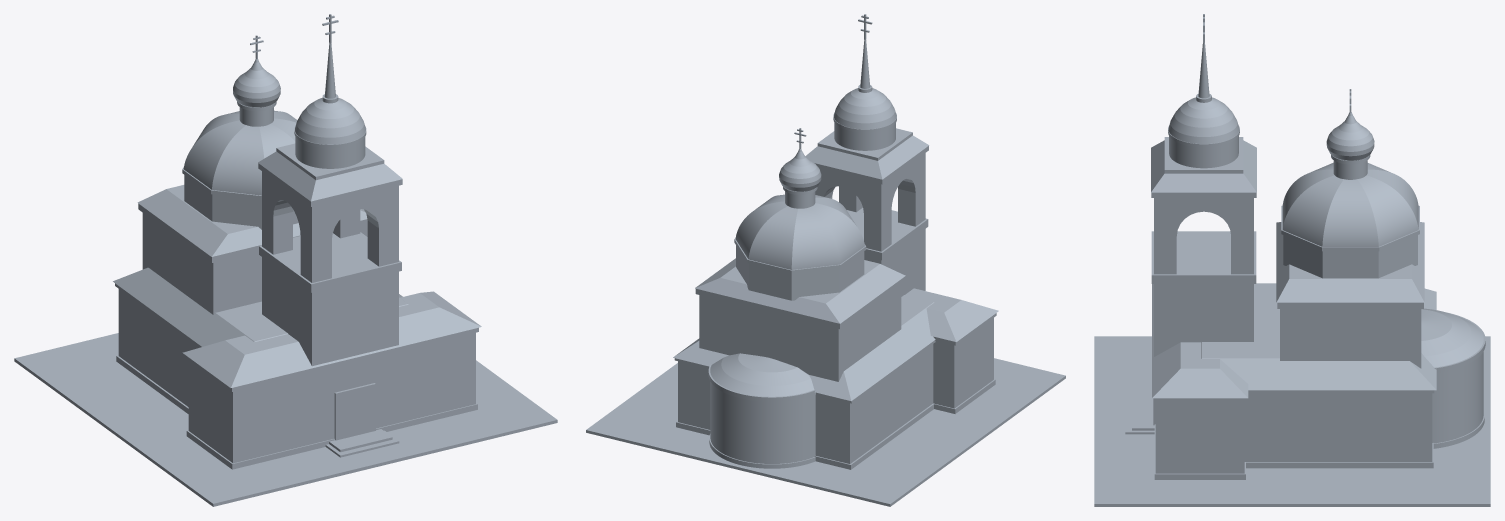
Rendered from church.glb.
The picture shows the model from 3 angles, left to right: view 1: azimuth 30°, elevation 25°; view 2: azimuth 150°, elevation 25°; view 3: azimuth 270°, elevation 25°; orthographic projection. The views are drawn at different scales.
Parts seen in each view (by area): view 1: church-plaza-adro, church-churchBrick-frontaria, church-churchBrick-torre, church-churchBrick-campanario, church-zinc-telhado-entrada, church-churchBrick-camara-alta, church-gold-cupula-octogonal, church-zinc-telhado-nave, church-churchBrick-nave, church-zinc-telhado-camara, church-lime-base-sinos, church-zinc-telhado-campanario (+11 smaller); view 2: church-plaza-adro, church-churchBrick-camara-alta, church-churchBrick-nave, church-gold-cupula-octogonal, church-churchBrick-abside, church-churchBrick-campanario, church-zinc-telhado-nave, church-zinc-telhado-camara, church-churchBrick-frontaria, church-zinc-telhado-abside, church-churchBrick-tambor-principal, church-zinc-telhado-entrada (+13 smaller); view 3: church-plaza-adro, church-churchBrick-nave, church-zinc-telhado-nave, church-gold-cupula-octogonal, church-churchBrick-camara-alta, church-churchBrick-frontaria, church-churchBrick-torre, church-zinc-telhado-camara, church-churchBrick-campanario, church-zinc-telhado-entrada, church-churchBrick-tambor-principal, church-lime-base-sinos (+17 smaller).
Part boxes in pixels (x1,y1,x2,y2): church-plaza-adro: [14, 333, 557, 506]; church-churchBrick-frontaria: [188, 332, 475, 463]; church-churchBrick-torre: [262, 257, 398, 366]; church-churchBrick-campanario: [262, 171, 398, 282]; church-zinc-telhado-entrada: [182, 291, 481, 387]; church-churchBrick-camara-alta: [142, 213, 367, 314]; church-gold-cupula-octogonal: [183, 110, 297, 195]; church-zinc-telhado-nave: [113, 267, 408, 346]; church-churchBrick-nave: [118, 289, 198, 406]; church-zinc-telhado-camara: [137, 185, 367, 256]; church-lime-base-sinos: [259, 232, 401, 292]; church-zinc-telhado-campanario: [258, 151, 402, 201]; church-plaza-adro: [586, 358, 1065, 506]; church-churchBrick-camara-alta: [699, 285, 901, 381]; church-churchBrick-nave: [678, 344, 933, 463]; church-gold-cupula-octogonal: [735, 194, 864, 269]; church-churchBrick-abside: [710, 382, 815, 463]; church-churchBrick-campanario: [815, 153, 925, 251]; church-zinc-telhado-nave: [673, 295, 935, 401]; church-zinc-telhado-camara: [695, 258, 905, 323]; church-churchBrick-frontaria: [933, 318, 993, 408]; church-zinc-telhado-abside: [710, 353, 814, 396]; church-churchBrick-tambor-principal: [736, 245, 864, 300]; church-zinc-telhado-entrada: [905, 288, 998, 341]; church-plaza-adro: [1094, 336, 1490, 506]; church-churchBrick-nave: [1244, 393, 1432, 461]; church-zinc-telhado-nave: [1201, 283, 1436, 390]; church-gold-cupula-octogonal: [1282, 162, 1418, 246]; church-churchBrick-camara-alta: [1280, 309, 1421, 368]; church-churchBrick-frontaria: [1155, 402, 1244, 473]; church-churchBrick-torre: [1154, 284, 1253, 356]; church-zinc-telhado-camara: [1276, 222, 1424, 302]; church-churchBrick-campanario: [1154, 198, 1253, 274]; church-zinc-telhado-entrada: [1152, 284, 1248, 398]; church-churchBrick-tambor-principal: [1283, 235, 1417, 278]; church-lime-base-sinos: [1151, 231, 1256, 283].
Bounding box in the file's own units: 23.2 × 26.4 × 23.2.
